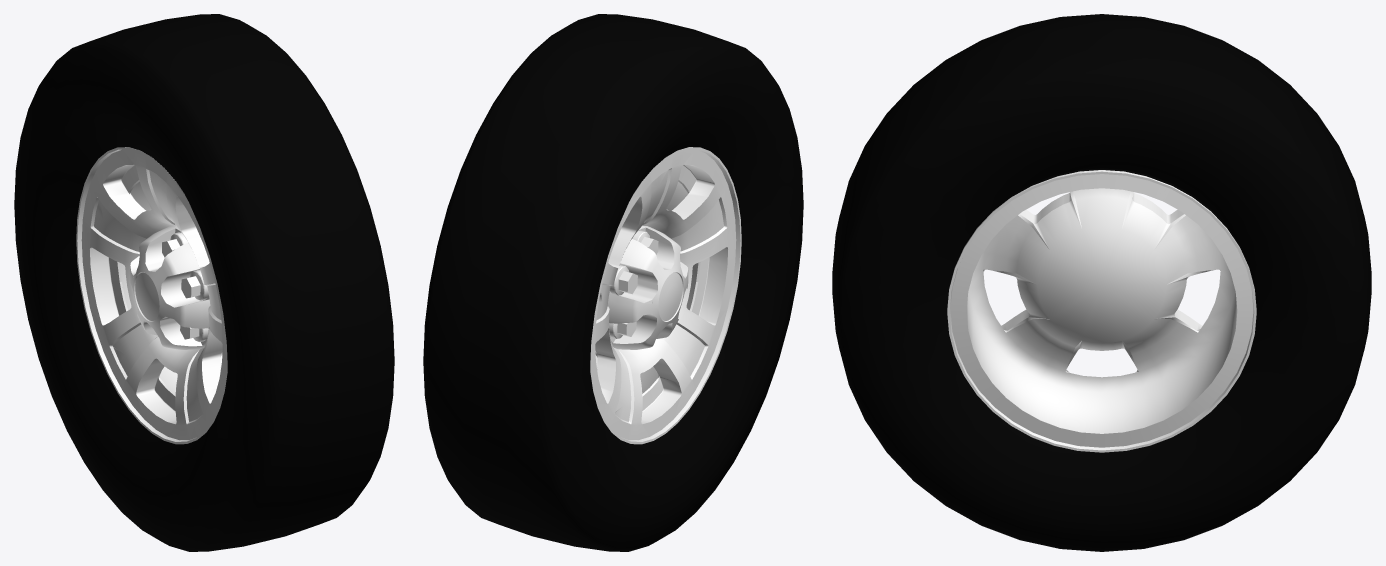
Rendered from chevy_tahoe_wheelhigh.obj.
The picture shows the model from 3 angles, left to right: view 1: azimuth 30°, elevation 25°; view 2: azimuth 150°, elevation 25°; view 3: azimuth 270°, elevation 25°; orthographic projection.
Parts seen in each view (by area): view 1: chevy_tahoe_wheelhigh_chev_tahoe_body.006; view 2: chevy_tahoe_wheelhigh_chev_tahoe_body.006; view 3: chevy_tahoe_wheelhigh_chev_tahoe_body.006.
Part boxes in pixels (<box>): chevy_tahoe_wheelhigh_chev_tahoe_body.006: <box>14,14,394,551</box>; chevy_tahoe_wheelhigh_chev_tahoe_body.006: <box>423,14,803,551</box>; chevy_tahoe_wheelhigh_chev_tahoe_body.006: <box>832,14,1371,551</box>.
Size of the model in its own units: 0.2635 by 0.8535 by 0.8524.
